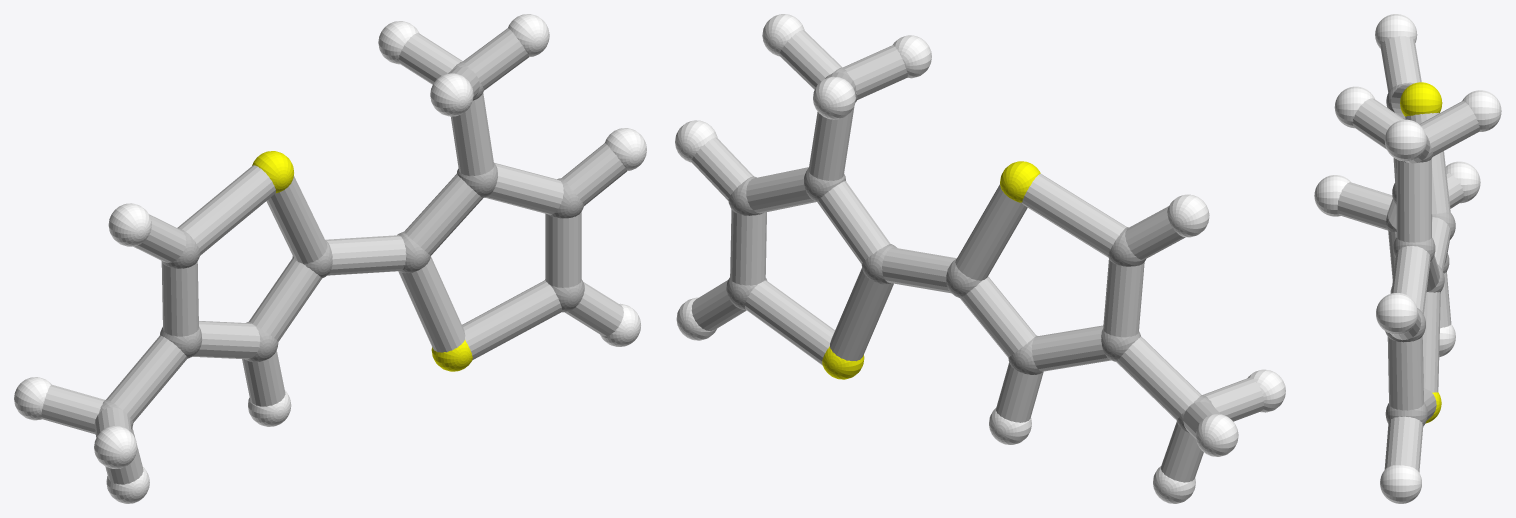
File: color.glb
The picture shows the model from 3 angles, left to right: view 1: azimuth 30°, elevation 25°; view 2: azimuth 150°, elevation 25°; view 3: azimuth 270°, elevation 25°; orthographic projection. The views are drawn at different scales.
Visible parts, largest first — view 1: grp7965, grp3621, grp1, grp7241; view 2: grp7965, grp3621, grp1, grp7241; view 3: grp7965, grp3621, grp1, grp7241.
Boxes of the visible parts, x1,y1,x2,y2 form: grp7965: (41, 28, 626, 484); grp3621: (14, 14, 646, 503); grp1: (94, 61, 584, 434); grp7241: (252, 151, 472, 371); grp7965: (691, 30, 1264, 482); grp3621: (675, 14, 1285, 503); grp1: (726, 67, 1213, 432); grp7241: (822, 161, 1040, 379); grp7965: (1337, 36, 1479, 472); grp3621: (1314, 14, 1501, 503); grp1: (1385, 82, 1455, 426); grp7241: (1400, 82, 1442, 423).
Bounding box in the file's own units: 9.48 × 5.96 × 2.66.
